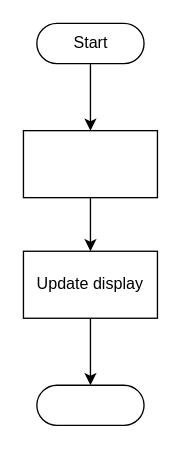
This 181x449 diagram has some shape labels left out. The shapes that lost their labels are listed below. From the top down, each one's centre as x and y in pixels, then its label:
At (89,163): "Update game".
At (90,404): "End".
